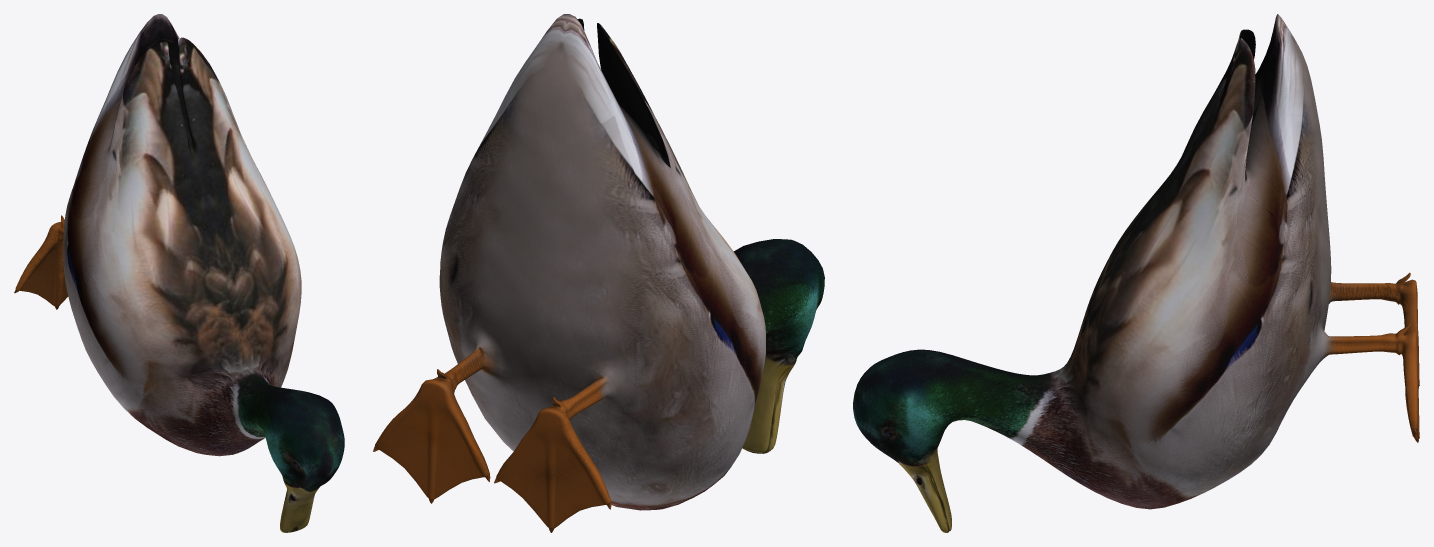
Rendered from duck.gltf.
3 views of the same model, side by side, from view 1: azimuth 30°, elevation 25°; view 2: azimuth 150°, elevation 25°; view 3: azimuth 270°, elevation 25° (orthographic). The views are drawn at different scales.
Visible parts, largest first — view 1: 12248_Bird_v1; view 2: 12248_Bird_v1; view 3: 12248_Bird_v1.
Boxes of the visible parts, bbox=[...] form: 12248_Bird_v1: bbox=[14, 14, 344, 532]; 12248_Bird_v1: bbox=[373, 14, 824, 532]; 12248_Bird_v1: bbox=[853, 14, 1419, 532].
Size of the model in its own units: 0.2845 by 0.5651 by 0.5647.
Materials: 1 (1 with a texture image).
